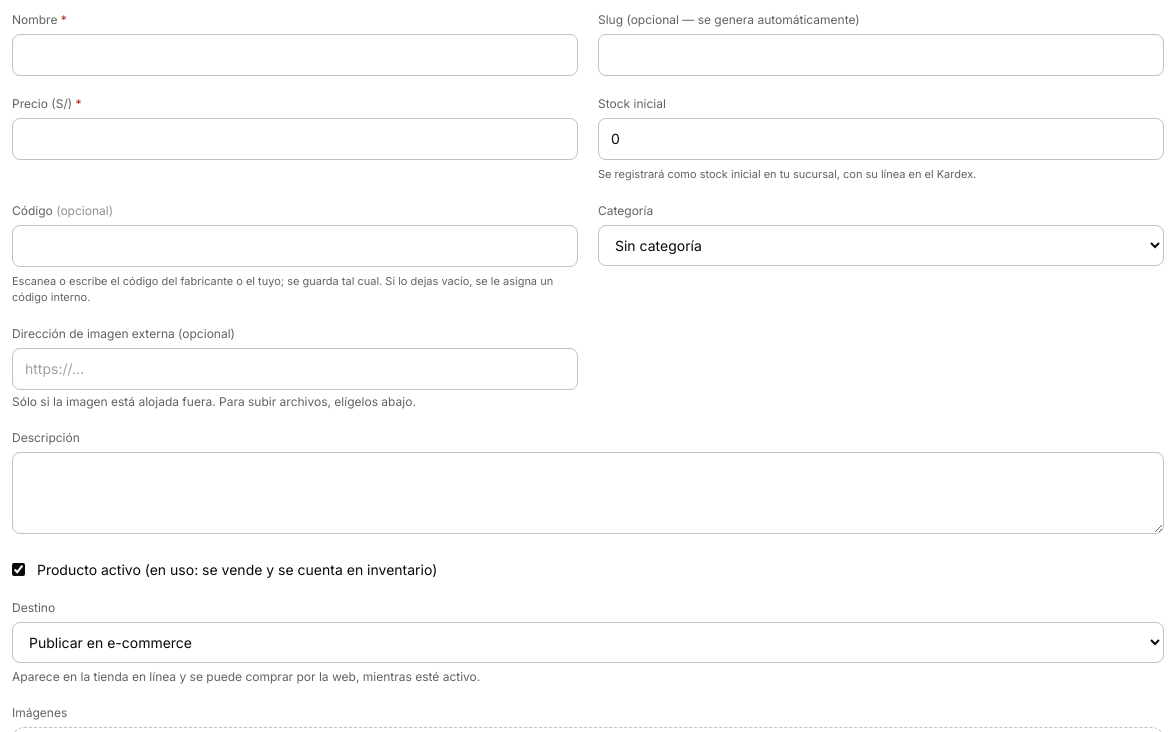
Test: la ficha del producto › dice qué significa cada destino, y que no es lo mismo que desactivar
The width and height of the screenshot is (1176, 732).
Select "Solo stock interno" in the dropdown labelled "Destino" at (588, 642), box [12,622,1164,662]
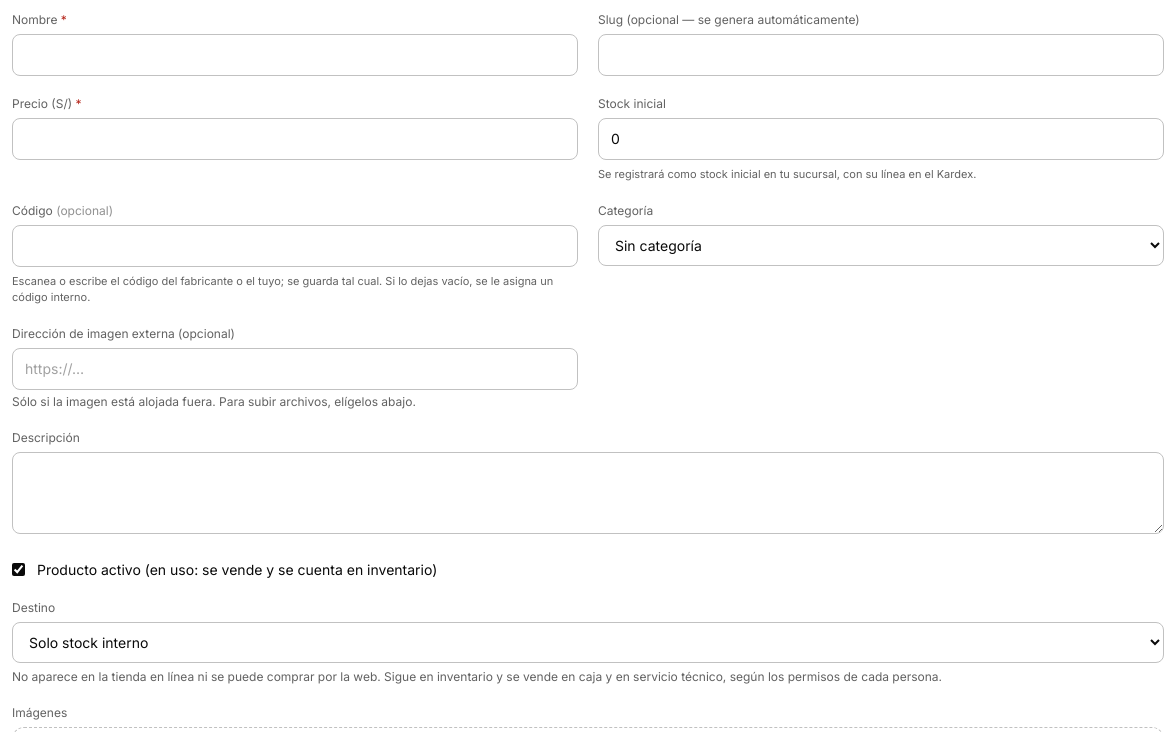
Check: the checkbox labelled "Producto activo (en uso: se vende y se cuenta en inventario)" is checked, box [12,563,25,576]
Check: the text "No aparece en la tienda en línea" shows "caja", box [12,668,942,684]
Check: the text "No aparece en la tienda en línea" shows "inventario", box [12,668,942,684]
